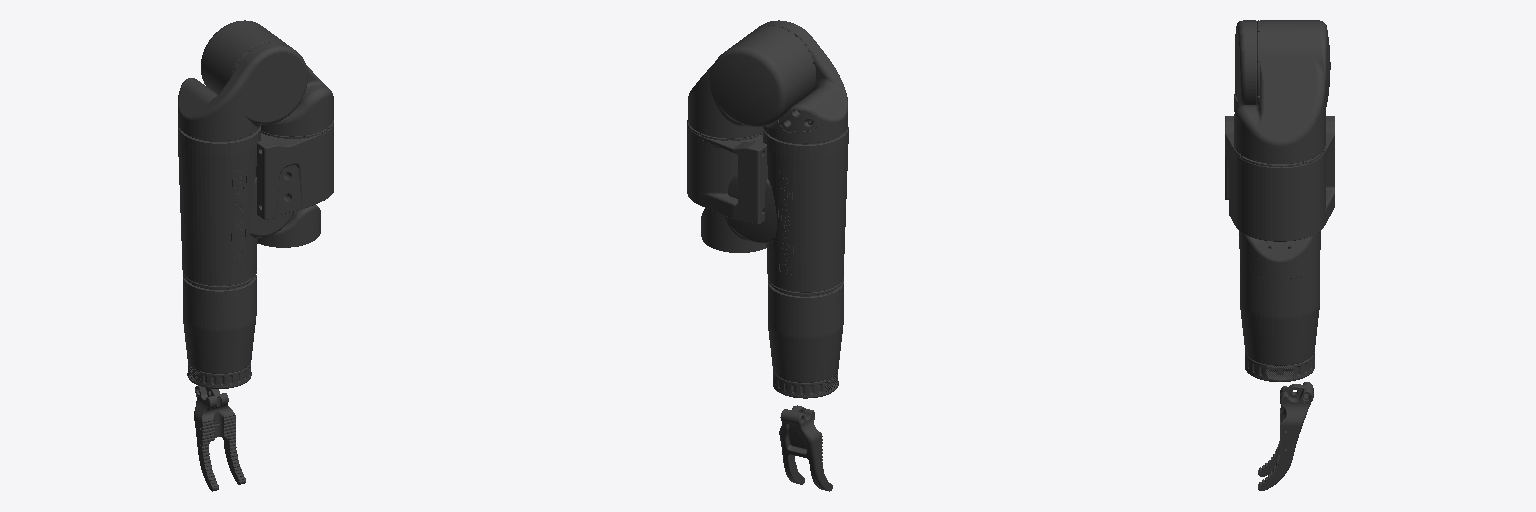
robot.urdf — bravo_7_example:
<?xml version="1.0" ?>
<!-- =================================================================================== -->
<!-- |    This document was autogenerated by xacro from bravo_7_example.urdf.xacro     | -->
<!-- |    EDITING THIS FILE BY HAND IS NOT RECOMMENDED                                 | -->
<!-- =================================================================================== -->
<robot name="bravo_7_example">
  <link name="base_link"/>
  <joint name="bravo_joint" type="fixed">
    <origin rpy="0 0 0" xyz="0 0 0"/>
    <parent link="base_link"/>
    <child link="bravo_base_link"/>
    <origin rpy="0 0 0" xyz="0 0 0"/>
  </joint>
  <material name="bravo_black">
    <color rgba="0.3 0.3 0.3 1"/>
  </material>
  <link name="bravo_base_link">
    <visual>
      <geometry>
        <mesh filename="package://reach_bravo_description_mk2/meshes/1019 A.stl"/>
      </geometry>
      <material name="bravo_black"/>
    </visual>
    <collision>
      <geometry>
        <box size="0.0625 0.1112 0.088"/>
      </geometry>
      <origin rpy="0 0 0" xyz="0.03625 00 0.044"/>
    </collision>
    <collision>
      <geometry>
        <box size="0.050 0.080 0.060"/>
      </geometry>
      <origin rpy="0 0 0" xyz="0.025 -0.04556 0.03"/>
    </collision>
    <collision>
      <geometry>
        <cylinder length="0.0851" radius="0.046"/>
      </geometry>
      <origin rpy="0 0 0" xyz="0.0675 0 0.04255"/>
    </collision>
  </link>
  <joint name="bravo_axis_g" type="continuous">
    <parent link="bravo_base_link"/>
    <origin rpy="0 0 3.14159" xyz="0.0665 0 0.08"/>
    <axis xyz="0 0 -1"/>
    <child link="bravo_1019_end_link"/>
    <!-- <limit effort="0" velocity="0" lower="0.0" upper="6.3" /> -->
  </joint>
  <link name="bravo_1019_end_link">
    <visual>
      <geometry>
        <mesh filename="package://reach_bravo_description_mk2/meshes/1019 B.stl"/>
      </geometry>
      <origin rpy="0 0 3.14159" xyz="0 0 0"/>
      <material name="bravo_black"/>
    </visual>
  </link>
  <joint name="bravo_f_base_joint" type="fixed">
    <parent link="bravo_1019_end_link"/>
    <origin rpy="0 0 0" xyz="0 0 0.0058"/>
    <child link="bravo_1013_base_link"/>
  </joint>
  <link name="bravo_1013_base_link">
    <visual>
      <geometry>
        <mesh filename="package://reach_bravo_description_mk2/meshes/1013 A.stl"/>
      </geometry>
      <origin rpy="0 0 3.14159" xyz="0.0 00 0.0"/>
      <material name="bravo_black"/>
    </visual>
    <collision>
      <geometry>
        <cylinder length="0.0667" radius="0.046"/>
      </geometry>
      <origin rpy="0 0 0" xyz="0.0 0.0 0.03335"/>
    </collision>
    <collision>
      <geometry>
        <cylinder length="0.0738" radius="0.046"/>
      </geometry>
      <origin rpy="1.5707 0 0 " xyz="0.046 0.0149 0.0667"/>
    </collision>
  </link>
  <joint name="bravo_axis_f" type="revolute">
    <parent link="bravo_1013_base_link"/>
    <origin rpy="0 0 0" xyz="0.046 0 0.0667"/>
    <axis xyz="0 -1 0"/>
    <child link="bravo_1013_joint_link"/>
    <limit effort="0" lower="0.0" upper="3.2" velocity="0"/>
  </joint>
  <link name="bravo_1013_joint_link">
    <visual>
      <geometry>
        <mesh filename="package://reach_bravo_description_mk2/meshes/1013 B.stl"/>
      </geometry>
      <material name="bravo_black"/>
      <origin rpy="0 0 3.14159" xyz="0.0 00 0.0"/>
    </visual>
    <collision>
      <geometry>
        <cylinder length="0.0228" radius="0.046"/>
      </geometry>
      <origin rpy="1.5707 0 0 " xyz="0 -0.0334 0"/>
    </collision>
    <collision>
      <geometry>
        <cylinder length="0.05094" radius="0.046"/>
      </geometry>
      <origin rpy="0 0 0" xyz="0.046 0 -0.02547"/>
    </collision>
  </link>
  <joint name="bravo_1013_end_joint" type="fixed">
    <parent link="bravo_1013_joint_link"/>
    <origin rpy="3.14159 0 3.14159" xyz="0.046 0 -0.05334"/>
    <child link="bravo_1013_end_link"/>
  </joint>
  <link name="bravo_1013_end_link"/>
  <joint name="bravo_e_base_joint" type="fixed">
    <parent link="bravo_1013_end_link"/>
    <origin rpy="0 0 0" xyz="0 0 0.182"/>
    <child link="bravo_1026_0_base_link"/>
  </joint>
  <link name="bravo_1026_0_base_link">
    <visual>
      <geometry>
        <mesh filename="package://reach_bravo_description_mk2/meshes/RS2-1026-A.stl"/>
      </geometry>
      <material name="bravo_black"/>
    </visual>
    <collision>
      <geometry>
        <cylinder length="0.059" radius="0.0408"/>
      </geometry>
      <origin rpy="0 0 0" xyz="0 00 0.0295"/>
    </collision>
    <collision>
      <geometry>
        <cylinder length="0.0599" radius="0.0408"/>
      </geometry>
      <origin rpy="1.5707 0 0" xyz="0.0408 -0.01435 0.059"/>
    </collision>
  </link>
  <joint name="bravo_axis_e" type="revolute">
    <parent link="bravo_1026_0_base_link"/>
    <origin rpy="0 0 0" xyz="0.0408 0 0.059"/>
    <axis xyz="0 -1 0"/>
    <child link="bravo_1026_0_joint_link"/>
    <limit effort="0" lower="0.0" upper="3.2" velocity="0"/>
  </joint>
  <link name="bravo_1026_0_joint_link">
    <visual>
      <geometry>
        <mesh filename="package://reach_bravo_description_mk2/meshes/RS2-1026-B.stl"/>
      </geometry>
      <material name="bravo_black"/>
    </visual>
    <collision>
      <geometry>
        <cylinder length="0.02335" radius="0.0408"/>
      </geometry>
      <origin rpy="1.5707 0 0" xyz="0 0.027275 0 "/>
    </collision>
    <collision>
      <geometry>
        <cylinder length="0.0851" radius="0.0408"/>
      </geometry>
      <origin rpy="0 0 0" xyz="0.0408 0 -0.0473"/>
    </collision>
  </link>
  <joint name="bravo_1026_0_end_joint" type="fixed">
    <parent link="bravo_1026_0_joint_link"/>
    <origin rpy="3.14159 0 0" xyz="0.0408 0 -0.08705"/>
    <child link="bravo_1026_0_end_link"/>
  </joint>
  <link name="bravo_1026_0_end_link"/>
  <joint name="bravo_d_base_joint" type="fixed">
    <parent link="bravo_1026_0_end_link"/>
    <origin rpy="0 0 0" xyz="0 0 0"/>
    <child link="bravo_1026_1_base_link"/>
  </joint>
  <link name="bravo_1026_1_base_link">
        </link>
  <joint name="bravo_axis_d" type="continuous">
    <parent link="bravo_1026_1_base_link"/>
    <origin rpy="0 0 0" xyz="0 0 0"/>
    <axis xyz="0 0 -1"/>
    <child link="bravo_1026_1_joint_link"/>
    <!-- <limit effort="0" velocity="0" lower="0" upper="6.2" /> -->
  </joint>
  <link name="bravo_1026_1_joint_link">
    <visual>
      <geometry>
        <mesh filename="package://reach_bravo_description_mk2/meshes/RS2-1026-C.stl"/>
      </geometry>
      <material name="bravo_black"/>
      <origin rpy="0 0 0" xyz="0 0 0 "/>
    </visual>
    <collision>
      <geometry>
        <cylinder length="0.003" radius="0.0408"/>
      </geometry>
      <origin rpy="0 0 3.14159" xyz="0 0 0.000"/>
    </collision>
  </link>
  <joint name="bravo_1026_1_end_joint" type="fixed">
    <parent link="bravo_1026_1_joint_link"/>
    <origin rpy="0 0 3.14159" xyz="0 0 0.0054"/>
    <child link="bravo_1026_1_end_link"/>
  </joint>
  <link name="bravo_1026_1_end_link"/>
  <joint name="bravo_c_base_joint" type="fixed">
    <parent link="bravo_1026_1_end_link"/>
    <origin rpy="0 0 0" xyz="0 0 0.0"/>
    <child link="bravo_1023_0_base_link"/>
  </joint>
  <link name="bravo_1023_0_base_link">
    <visual>
      <geometry>
        <mesh filename="package://reach_bravo_description_mk2/meshes/RS2-1023-A.stl"/>
      </geometry>
      <material name="bravo_black"/>
    </visual>
    <collision>
      <geometry>
        <cylinder length="0.059" radius="0.0408"/>
      </geometry>
      <origin rpy="0 0 0" xyz="0 00 0.0295"/>
    </collision>
    <collision>
      <geometry>
        <cylinder length="0.0599" radius="0.0408"/>
      </geometry>
      <origin rpy="1.5707 0 0" xyz="0.0408 -0.01435 0.059"/>
    </collision>
  </link>
  <joint name="bravo_axis_c" type="revolute">
    <parent link="bravo_1023_0_base_link"/>
    <origin rpy="0 0 0" xyz="0.0408 0 0.059"/>
    <axis xyz="0 -1 0"/>
    <child link="bravo_1023_0_joint_link"/>
    <limit effort="0" lower="0.0" upper="3.2" velocity="0"/>
  </joint>
  <link name="bravo_1023_0_joint_link">
    <visual>
      <geometry>
        <mesh filename="package://reach_bravo_description_mk2/meshes/RS2-1023-B.stl"/>
      </geometry>
      <material name="bravo_black"/>
    </visual>
    <collision>
      <geometry>
        <cylinder length="0.02335" radius="0.0408"/>
      </geometry>
      <origin rpy="1.5707 0 0" xyz="0 0.027275 0 "/>
    </collision>
    <collision>
      <geometry>
        <cylinder length="0.0851" radius="0.0408"/>
      </geometry>
      <origin rpy="0 0 0" xyz="0.0408 0 -0.0473"/>
    </collision>
  </link>
  <joint name="bravo_1023_0_end_joint" type="fixed">
    <parent link="bravo_1023_0_joint_link"/>
    <origin rpy="3.14159 0 0" xyz="0.0408 0 -0.08705"/>
    <child link="bravo_1023_0_end_link"/>
  </joint>
  <link name="bravo_1023_0_end_link"/>
  <joint name="bravo_b_base_joint" type="fixed">
    <parent link="bravo_1023_0_end_link"/>
    <origin rpy="0 0 0" xyz="0 0 0"/>
    <child link="bravo_1023_1_base_link"/>
  </joint>
  <link name="bravo_1023_1_base_link">
        </link>
  <joint name="bravo_axis_b" type="continuous">
    <parent link="bravo_1023_1_base_link"/>
    <origin rpy="0 0 3.14159" xyz="0 0 0"/>
    <axis xyz="0 0 -1"/>
    <child link="bravo_1023_1_joint_link"/>
    <!--            <limit effort="0" velocity="0" lower="0.0" upper="0.0" />-->
  </joint>
  <link name="bravo_1023_1_joint_link">
    <visual>
      <geometry>
        <mesh filename="package://reach_bravo_description_mk2/meshes/RS2-1023-C.stl"/>
      </geometry>
      <material name="bravo_black"/>
    </visual>
    <collision>
      <geometry>
        <cylinder length="0.003" radius="0.0408"/>
      </geometry>
      <origin rpy="0 0 0" xyz="0 0 0.0"/>
    </collision>
  </link>
  <joint name="bravo_1023_1_end_joint" type="fixed">
    <parent link="bravo_1023_1_joint_link"/>
    <origin rpy="0 0 0" xyz="0 0 0.0054"/>
    <child link="bravo_1023_1_end_link"/>
  </joint>
  <link name="bravo_1023_1_end_link"/>
  <joint name="bravo_a_base_joint" type="fixed">
    <parent link="bravo_1023_1_end_link"/>
    <origin rpy="0 0 0" xyz="0 0 0"/>
    <child link="bravo_1038_base_link"/>
  </joint>
  <link name="bravo_1038_base_link">
    <visual>
      <geometry>
        <mesh filename="package://reach_bravo_description_mk2/meshes/1038.stl"/>
      </geometry>
      <material name="bravo_black"/>
    </visual>
    <collision>
      <geometry>
        <cylinder length="0.12535" radius="0.0408"/>
      </geometry>
      <origin rpy="0 0 0" xyz="0 0 0.06"/>
    </collision>
  </link>
  <joint name="bravo_1038_end_joint" type="fixed">
    <parent link="bravo_1038_base_link"/>
    <origin rpy="0 -1.5707 0" xyz="0 0 0.12535"/>
    <child link="bravo_1038_end_link"/>
  </joint>
  <link name="bravo_1038_end_link"/>
  <joint name="bravo_jaws_joint" type="fixed">
    <origin rpy="0 0 0" xyz=" 0 0 0.0"/>
    <parent link="bravo_1038_end_link"/>
    <child link="bravo_jaws_base_link"/>
  </joint>
  <link name="bravo_jaws_base_link">
    <!--        <visual>-->
    <!--            <geometry>-->
    <!--                <mesh filename="package://reach_bravo_description/meshes/end_effectors/RS2-257.stl"/>-->
    <!--            </geometry>-->
    <!--            <material name="bravo_jaws_black"/>-->
    <!--            </visual>-->
  </link>
  <link name="bravo_push_rod"/>
  <joint name="bravo_axis_a" type="prismatic">
    <origin rpy="0 0 0" xyz="0 0 0.009"/>
    <parent link="bravo_jaws_base_link"/>
    <child link="bravo_push_rod"/>
    <axis xyz="0 0 1"/>
    <limit effort="10" lower="0" upper="0.01" velocity="10"/>
  </joint>
  <link name="bravo_1030_base_link">
    <visual>
      <geometry>
        <mesh filename="package://reach_bravo_description_mk2/meshes/1030.stl"/>
      </geometry>
      <material name="bravo_black"/>
    </visual>
    <collision>
      <geometry>
        <cylinder length="0.03033333" radius="0.046"/>
      </geometry>
      <origin rpy="0 0 0" xyz="0 0 0.01516666"/>
    </collision>
    <collision>
      <geometry>
        <cylinder length="0.03033333" radius="0.045"/>
      </geometry>
      <origin rpy="0 0 0" xyz="0 0 0.0455"/>
    </collision>
    <collision>
      <geometry>
        <cylinder length="0.03033333" radius="0.044"/>
      </geometry>
      <origin rpy="0 0 0" xyz="0 0 0.075833333"/>
    </collision>
    <collision>
      <geometry>
        <cylinder length="0.03033333" radius="0.043"/>
      </geometry>
      <origin rpy="0 0 0" xyz="0 0 0.1061666666"/>
    </collision>
    <collision>
      <geometry>
        <cylinder length="0.03033333" radius="0.042"/>
      </geometry>
      <origin rpy="0 0 0" xyz="0 0 0.1365"/>
    </collision>
    <collision>
      <geometry>
        <cylinder length="0.03033333" radius="0.041"/>
      </geometry>
      <origin rpy="0 0 0" xyz="0 0 0.1668333"/>
    </collision>
  </link>
  <joint name="bravo_1030_base_joint" type="fixed">
    <parent link="bravo_1013_end_link"/>
    <child link="bravo_1030_base_link"/>
    <origin rpy="0 0 0" xyz="0 0 0"/>
  </joint>
  <material name="bravo_finger_jaws_black">
    <color rgba="0.3 0.3 0.3 1"/>
  </material>
  <joint name="bravo_finger_jaws_joint" type="fixed">
    <origin rpy="0 0 0" xyz="0 0 0"/>
    <parent link="bravo_jaws_base_link"/>
    <child link="bravo_finger_jaws_base_link"/>
    <origin rpy="0 0 0" xyz="0 0 0"/>
  </joint>
  <link name="bravo_finger_jaws_base_link">
    <visual>
      <geometry>
        <mesh filename="package://reach_bravo_description_mk2/meshes/RS2-257.stl"/>
      </geometry>
      <material name="bravo_finger_jaws_black"/>
    </visual>
    <collision>
      <geometry>
        <cylinder length="0.037" radius="0.0355"/>
      </geometry>
      <origin rpy="0 1.5707 0" xyz="0.0123 0 0"/>
    </collision>
  </link>
  <link name="bravo_finger_jaws_rs2_300_link">
    <visual>
      <geometry>
        <mesh filename="package://reach_bravo_description_mk2/meshes/RS2-300.stl"/>
      </geometry>
      <material name="bravo_finger_jaws_black"/>
    </visual>
    <collision>
      <geometry>
        <box size="0.124 0.035 0.042"/>
      </geometry>
      <origin rpy="0 0 2.78554548618295" xyz="0.0595 -0.0267 0"/>
    </collision>
  </link>
  <joint name="bravo_finger_jaws_rs2_300_joint" type="revolute">
    <origin rpy="0 0 0" xyz="0.0241 0.0268 0"/>
    <axis xyz="0 0 1"/>
    <parent link="bravo_finger_jaws_base_link"/>
    <child link="bravo_finger_jaws_rs2_300_link"/>
    <limit effort="10" lower="0" upper="1.0" velocity="10"/>
    <mimic joint="bravo_axis_a" multiplier="54" offset="0"/>
  </joint>
  <link name="bravo_finger_jaws_rs2_301_link">
    <visual>
      <geometry>
        <mesh filename="package://reach_bravo_description_mk2/meshes/RS2-301.stl"/>
      </geometry>
      <material name="bravo_finger_jaws_black"/>
    </visual>
    <collision>
      <geometry>
        <box size="0.124 0.035 0.042"/>
      </geometry>
      <origin rpy="0 0 -2.78554548618295" xyz="0.0595 0.0267 0"/>
    </collision>
  </link>
  <joint name="bravo_finger_jaws_rs2_301_joint" type="revolute">
    <origin rpy="0 0 0" xyz="0.0241 -0.0268 0"/>
    <axis xyz="0 0 -1"/>
    <parent link="bravo_finger_jaws_base_link"/>
    <child link="bravo_finger_jaws_rs2_301_link"/>
    <limit effort="10" lower="0" upper="1.0" velocity="10"/>
    <mimic joint="bravo_finger_jaws_rs2_300_joint" multiplier="1" offset="0"/>
  </joint>
</robot>

--- Render facts (derived) ---
The picture shows the robot from 3 angles, left to right: view 1: azimuth 30°, elevation 25°; view 2: azimuth 150°, elevation 25°; view 3: azimuth 270°, elevation 25°; orthographic projection.
Model bravo_7_example with 26 links and 25 joints (5 revolute, 3 continuous, 1 prismatic, 16 fixed), rooted at base_link, posed all joints at 0.
Links seen in each view (by area): view 1: bravo_1030_base_link, bravo_1013_joint_link, bravo_1038_base_link, bravo_base_link, bravo_1013_base_link, bravo_finger_jaws_rs2_301_link, bravo_1023_0_base_link, bravo_1023_0_joint_link; view 2: bravo_1030_base_link, bravo_1013_base_link, bravo_1038_base_link, bravo_base_link, bravo_1013_joint_link, bravo_1023_0_base_link, bravo_finger_jaws_rs2_301_link; view 3: bravo_1013_base_link, bravo_base_link, bravo_1038_base_link, bravo_1023_0_base_link, bravo_finger_jaws_rs2_301_link, bravo_1013_joint_link.
Boxes of the visible links, x1,y1,x2,y2 form: bravo_1030_base_link: [178, 126, 260, 289]; bravo_1013_joint_link: [178, 42, 307, 141]; bravo_1038_base_link: [183, 275, 256, 388]; bravo_base_link: [256, 120, 333, 219]; bravo_1013_base_link: [201, 20, 333, 136]; bravo_finger_jaws_rs2_301_link: [194, 386, 245, 491]; bravo_1023_0_base_link: [258, 204, 320, 247]; bravo_1023_0_joint_link: [189, 177, 293, 284]; bravo_1030_base_link: [763, 127, 848, 296]; bravo_1013_base_link: [688, 25, 815, 138]; bravo_1038_base_link: [768, 281, 843, 398]; bravo_base_link: [687, 120, 767, 224]; bravo_1013_joint_link: [758, 20, 847, 144]; bravo_1023_0_base_link: [701, 174, 776, 252]; bravo_finger_jaws_rs2_301_link: [779, 405, 832, 491]; bravo_1013_base_link: [1234, 20, 1330, 163]; bravo_base_link: [1225, 116, 1334, 241]; bravo_1038_base_link: [1240, 266, 1319, 381]; bravo_1023_0_base_link: [1240, 232, 1319, 278]; bravo_finger_jaws_rs2_301_link: [1258, 382, 1313, 490]; bravo_1013_joint_link: [1235, 20, 1256, 105].
Size in the robot's own frame: 0.185 by 0.1112 by 0.5314 metres.
10 mesh visuals loaded from 15 distinct referenced files (10 binary STL); not drawn: 5 (reference not matched to a file when rendering).